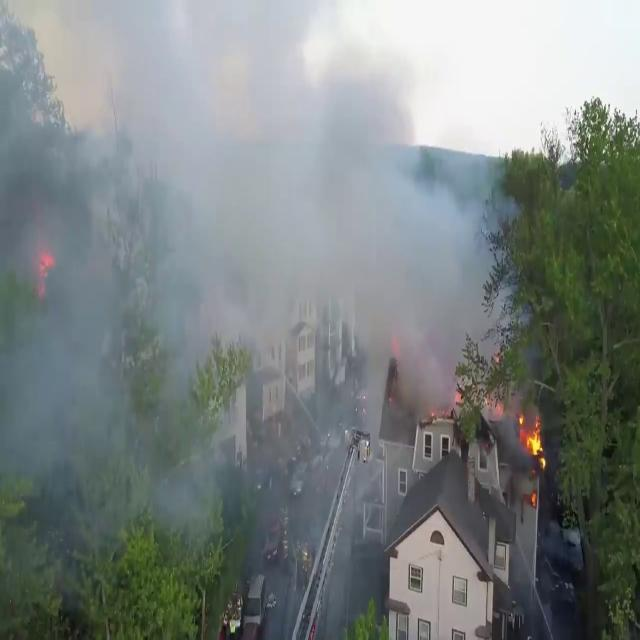Fire: (517, 408, 547, 473)
Smoke: (1, 2, 497, 443)
